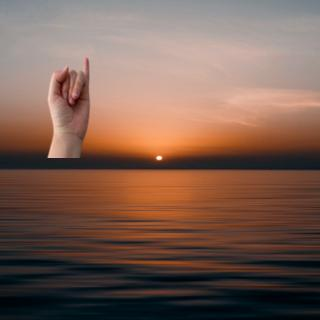Fine: (41, 47, 103, 164)
